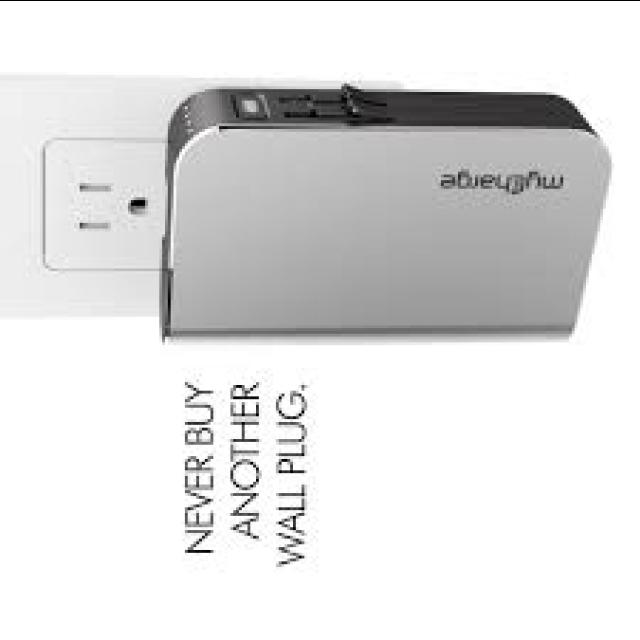power_bank: (158, 81, 612, 342)
